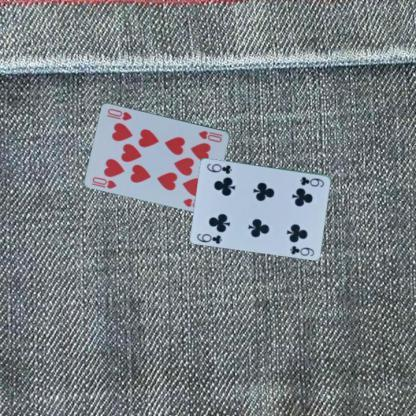10h: (196, 128, 224, 144), (90, 174, 118, 190)
6c: (194, 231, 224, 245), (298, 174, 325, 188)
